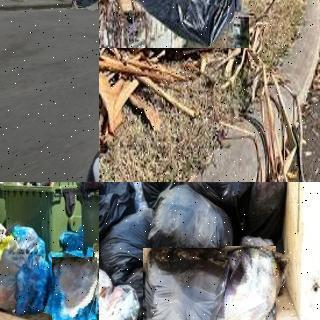Garbage: (99, 0, 249, 48), (147, 184, 233, 257), (143, 248, 228, 320), (218, 243, 283, 320), (47, 254, 99, 320), (14, 247, 51, 314), (99, 182, 132, 252), (99, 271, 139, 320), (0, 245, 28, 309), (194, 182, 254, 206), (75, 0, 98, 10), (72, 0, 83, 8)
